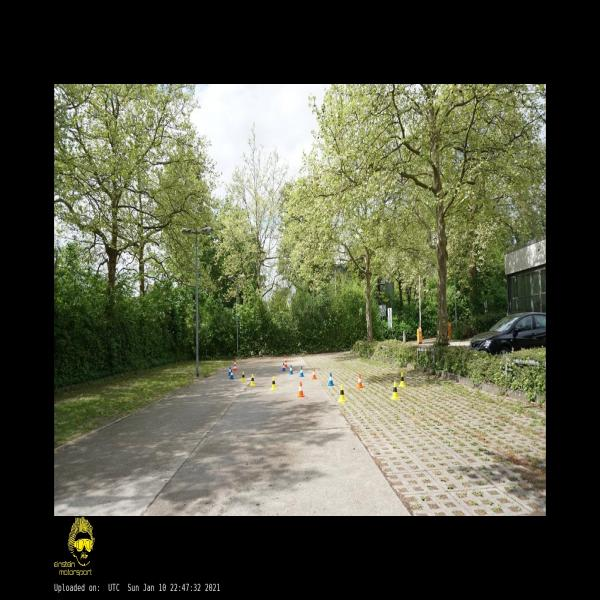blue_cone: (328, 372, 334, 386), (299, 366, 304, 377), (229, 369, 234, 379), (289, 364, 293, 374), (282, 363, 286, 372), (228, 366, 231, 375)
large_orange_cone: (233, 358, 237, 372), (284, 354, 288, 368)
orange_cone: (297, 382, 305, 397), (357, 374, 363, 387), (312, 367, 316, 380)
yellow_cone: (338, 384, 346, 403), (391, 382, 399, 400), (270, 377, 276, 390), (400, 372, 405, 386), (250, 374, 255, 386), (241, 371, 245, 382)
